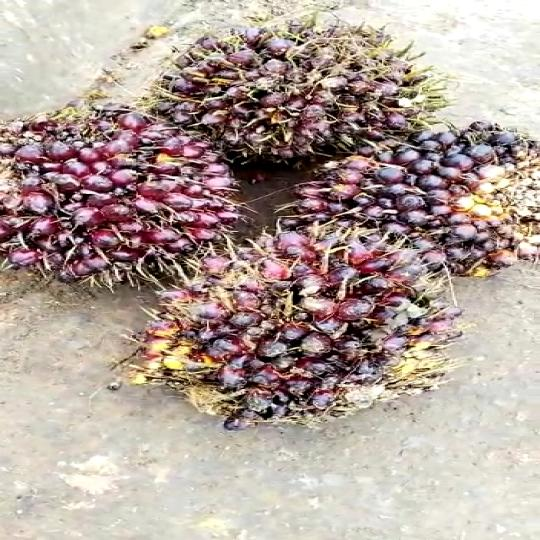kurang masak: (138, 233, 461, 431), (291, 91, 540, 306), (157, 27, 502, 182), (0, 87, 236, 278)
